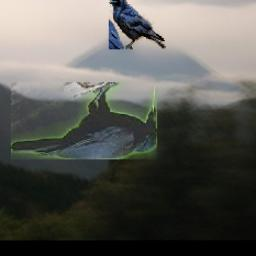Crow: (12, 83, 158, 160), (109, 0, 166, 49)
